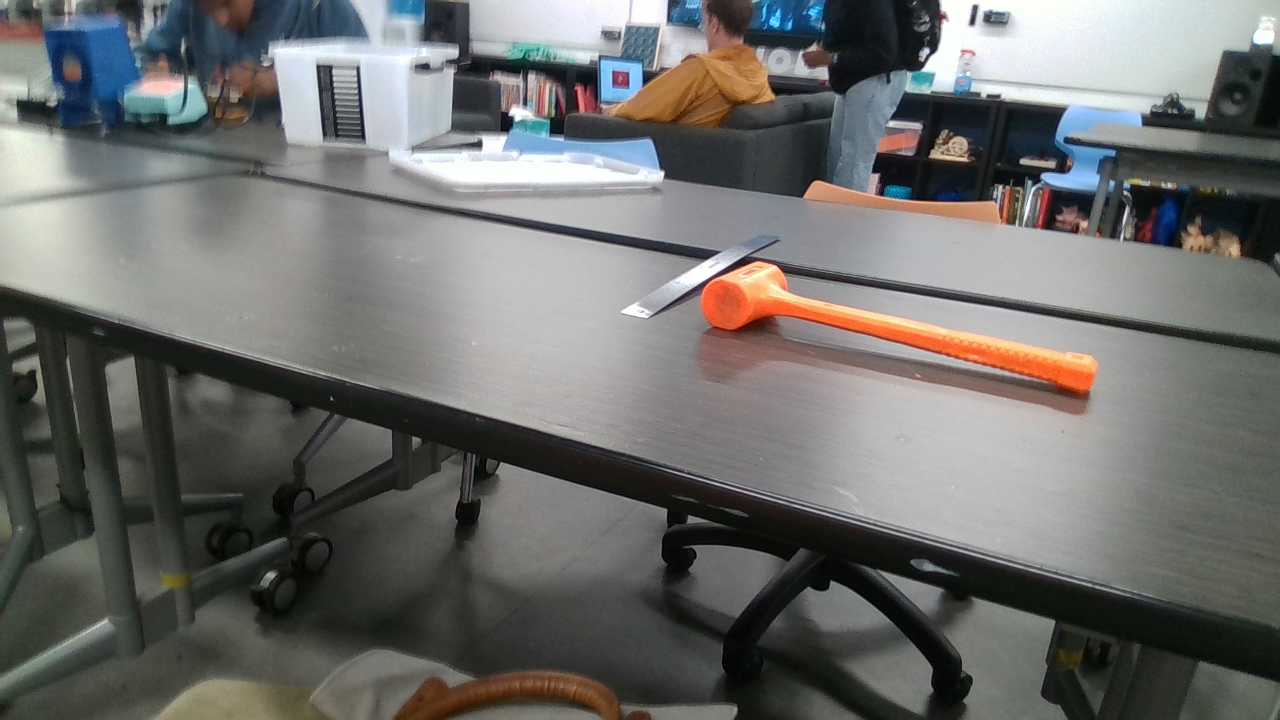Orange Hammer: (694, 262, 1092, 391)
